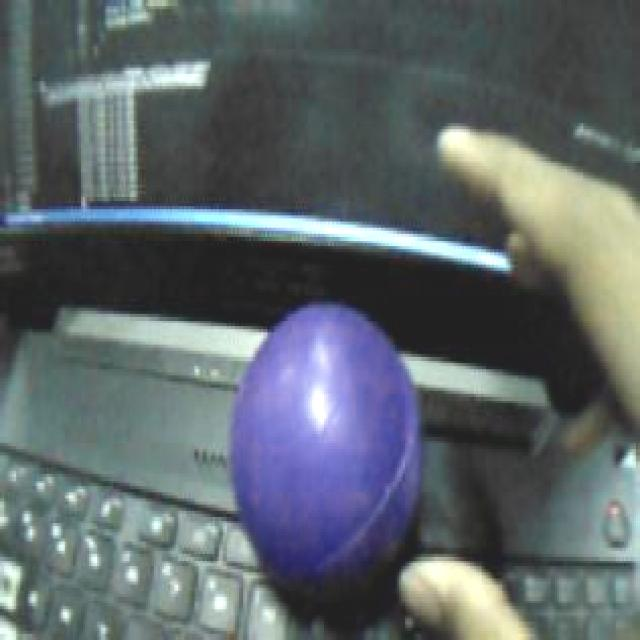BallPurple: (229, 298, 423, 590)
